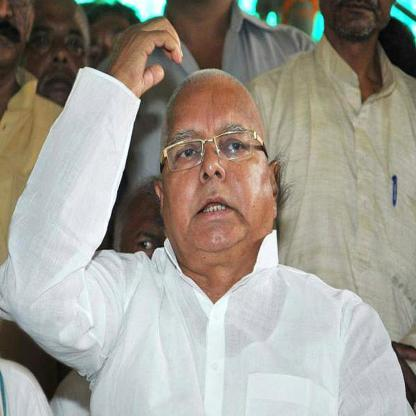face: (164, 91, 269, 254), (124, 203, 199, 322), (25, 5, 93, 109), (86, 20, 135, 98)
